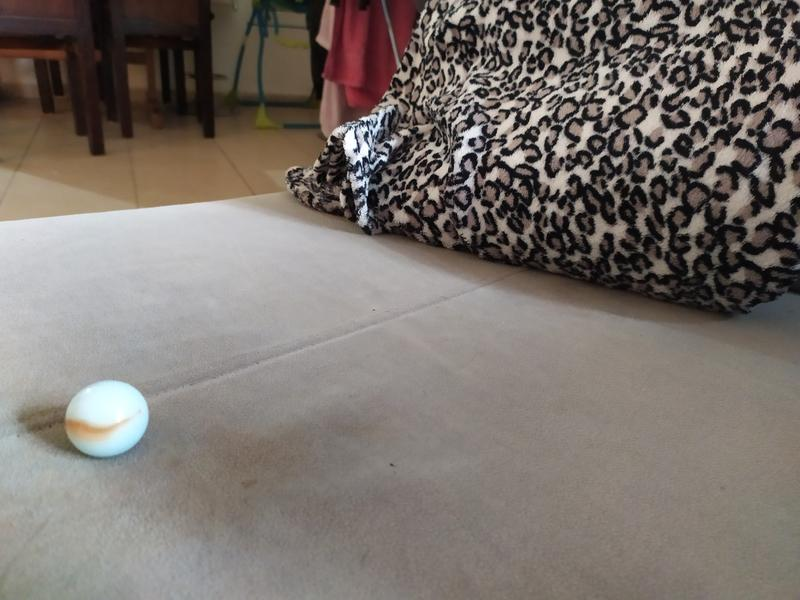Warning: (62, 376, 152, 461)
